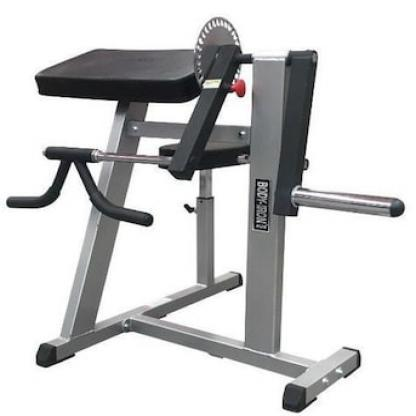arm curl machine: (8, 18, 405, 412)
